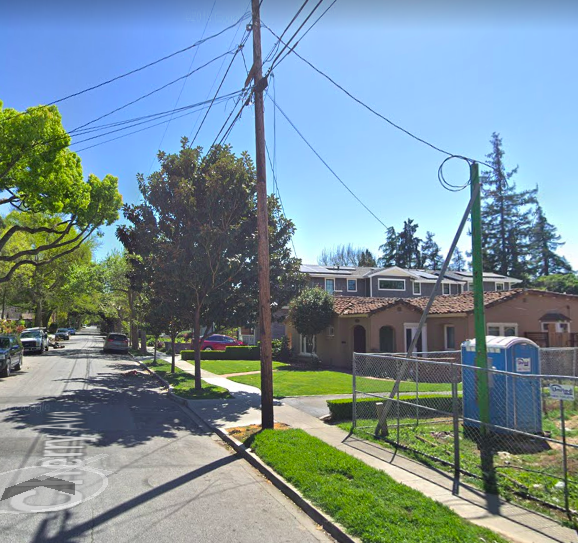tree: (115, 135, 303, 393)
